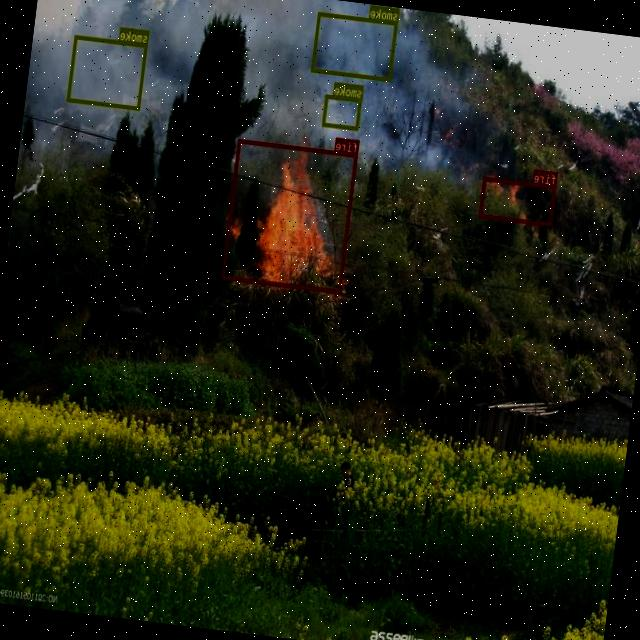fire: (222, 138, 358, 293), (479, 176, 556, 226)
smoke: (66, 34, 148, 110), (311, 11, 398, 81), (322, 93, 362, 129)
